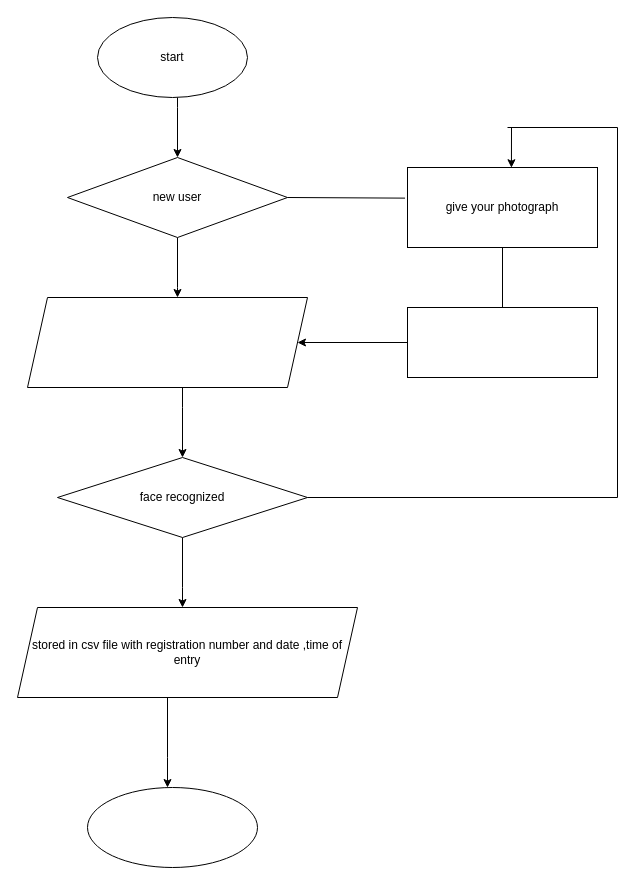
This 636x885 diagram has some shape labels left out. The shapes that lost their labels are listed below. From the top down, each one's centre as x and y in pixels, then its label:
At point (167, 342): "recognize the face".
At point (172, 827): "end".
